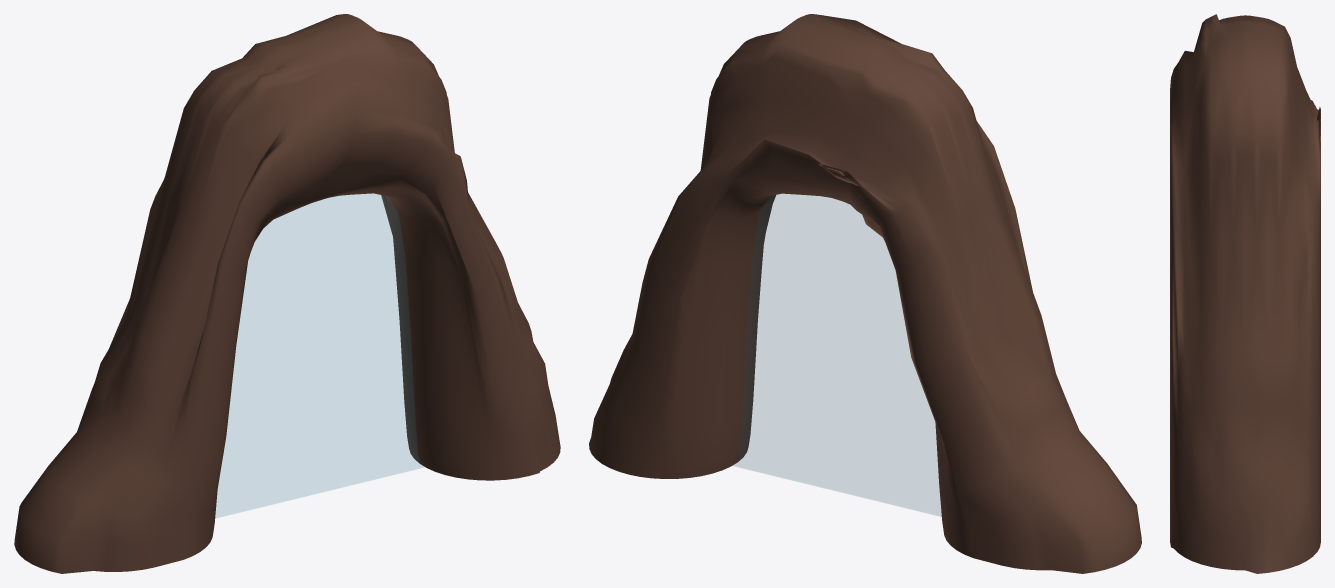
Rendered from Gateway_FBX.fbx.
3 views of the same model, side by side, from view 1: azimuth 30°, elevation 25°; view 2: azimuth 150°, elevation 25°; view 3: azimuth 270°, elevation 25° (orthographic). The views are drawn at different scales.
Parts seen in each view (by area): view 1: Gateway, Gateway_Door; view 2: Gateway, Gateway_Door; view 3: Gateway.
Part boxes in pixels (left/top/right/bottom): Gateway: left=14, top=14, right=560, bottom=573; Gateway_Door: left=216, top=194, right=423, bottom=517; Gateway: left=589, top=14, right=1141, bottom=573; Gateway_Door: left=733, top=194, right=940, bottom=516; Gateway: left=1170, top=14, right=1320, bottom=573.
Size of the model in its own units: 379 by 315 by 98.78.
